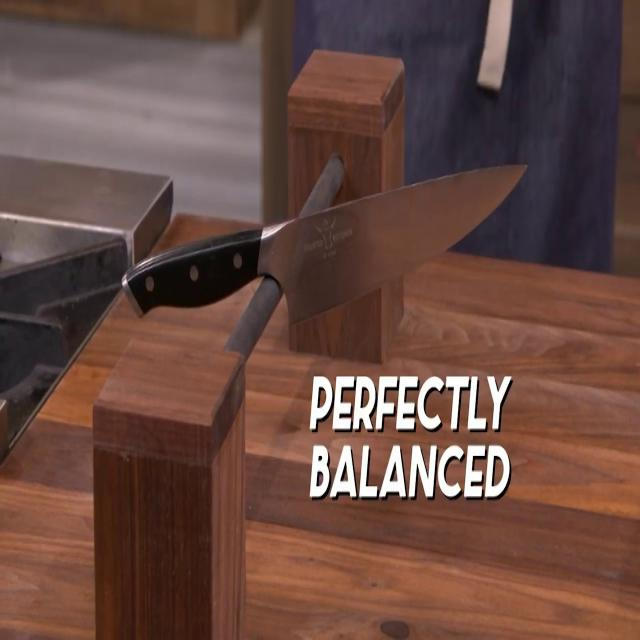Knife: (122, 164, 529, 318)
